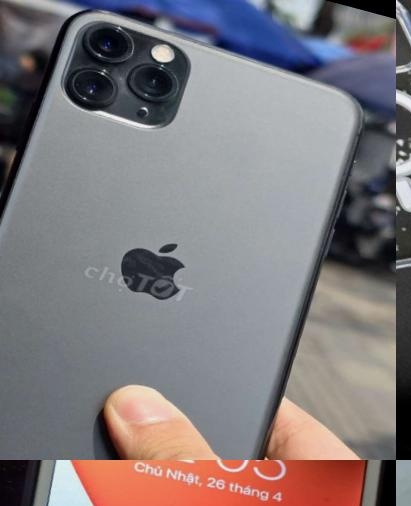scratch: (0, 460, 396, 506)
